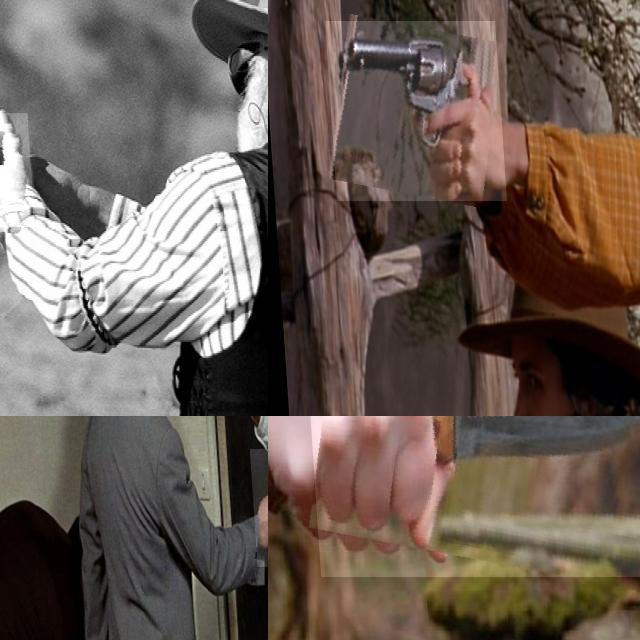-: (301, 416, 640, 577)
gun-knife-thesis - v11 Yolov5 augmented: (322, 20, 501, 202), (0, 112, 91, 227), (244, 448, 268, 567)
